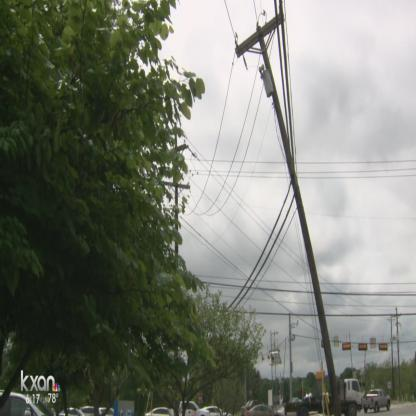Electrical Pole: (228, 4, 363, 415)
